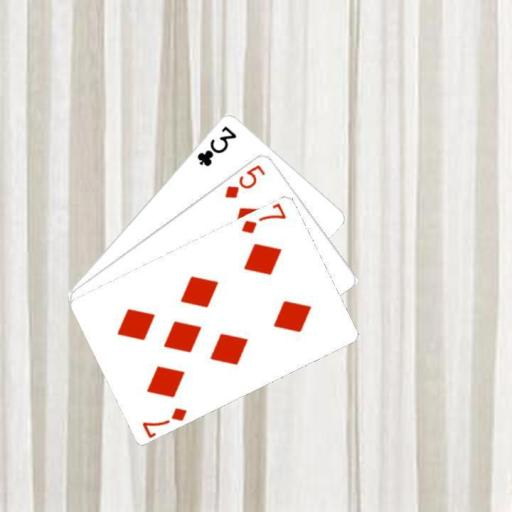card-corner: (194, 122, 238, 168), (222, 161, 268, 200), (238, 201, 288, 235), (138, 404, 188, 437)
